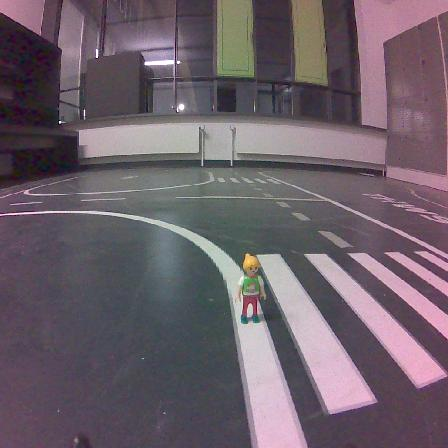CHILD: (235, 254, 265, 323)
